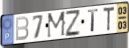7: (32, 13, 45, 39)
B: (15, 15, 30, 42)
M: (47, 10, 67, 39)
T: (102, 6, 116, 33), (87, 8, 99, 34)
Z: (64, 9, 81, 38)
